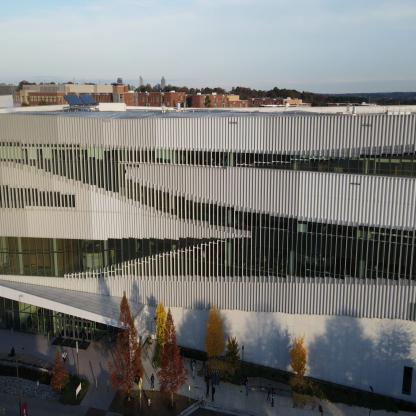Hunt Library: (1, 92, 415, 408)
